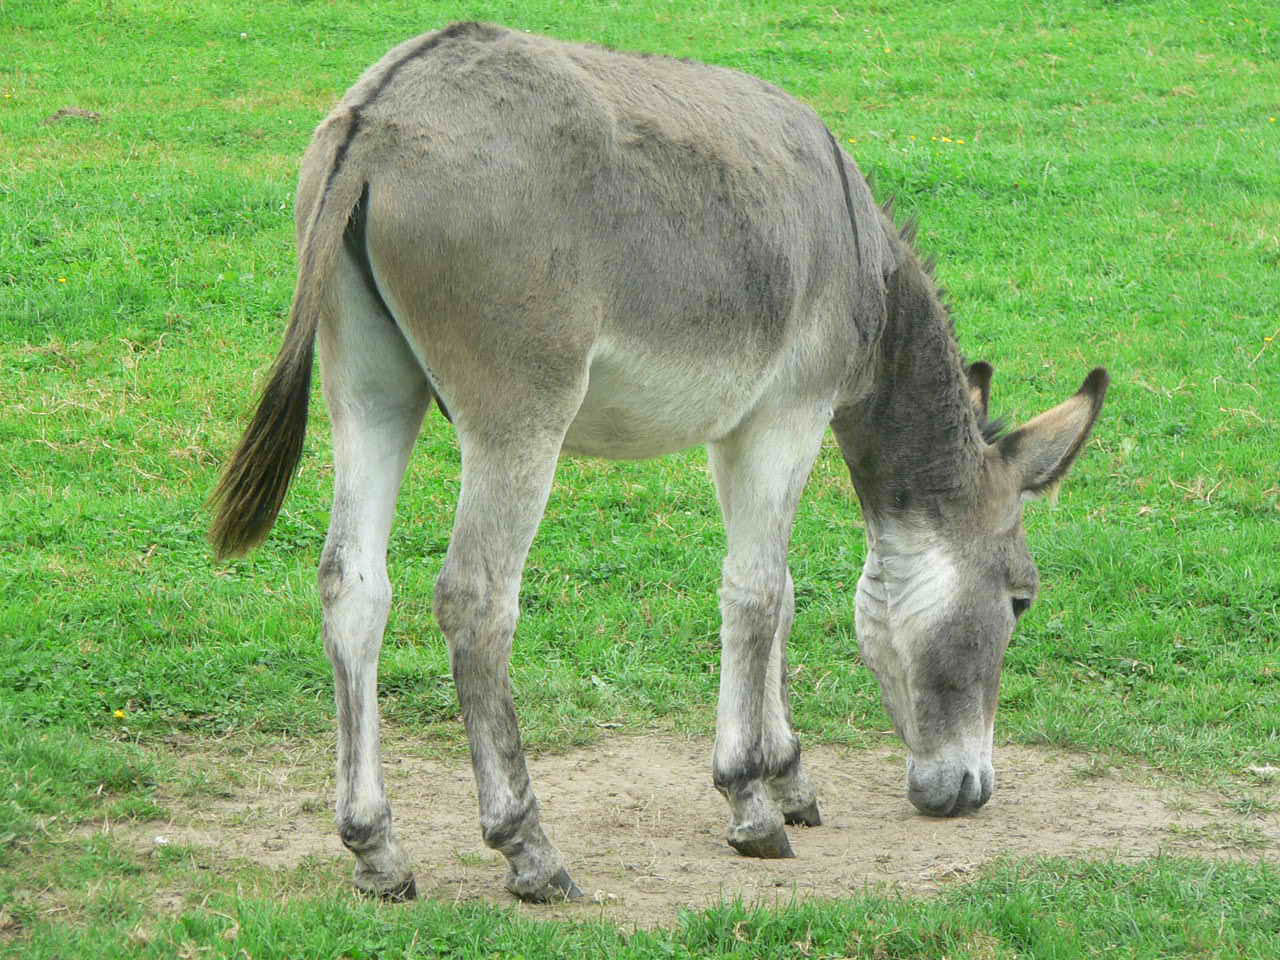background: (190, 25, 1111, 916)
